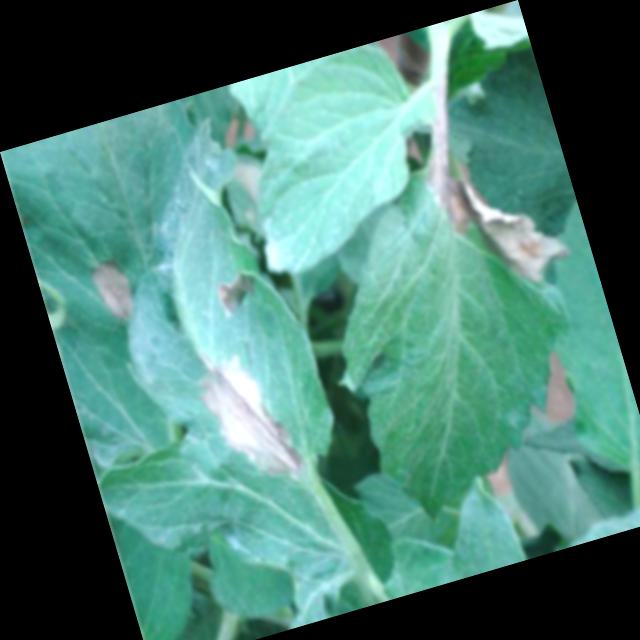Early_blight: (410, 97, 582, 309), (187, 329, 314, 495), (89, 251, 141, 325), (211, 269, 265, 319)
